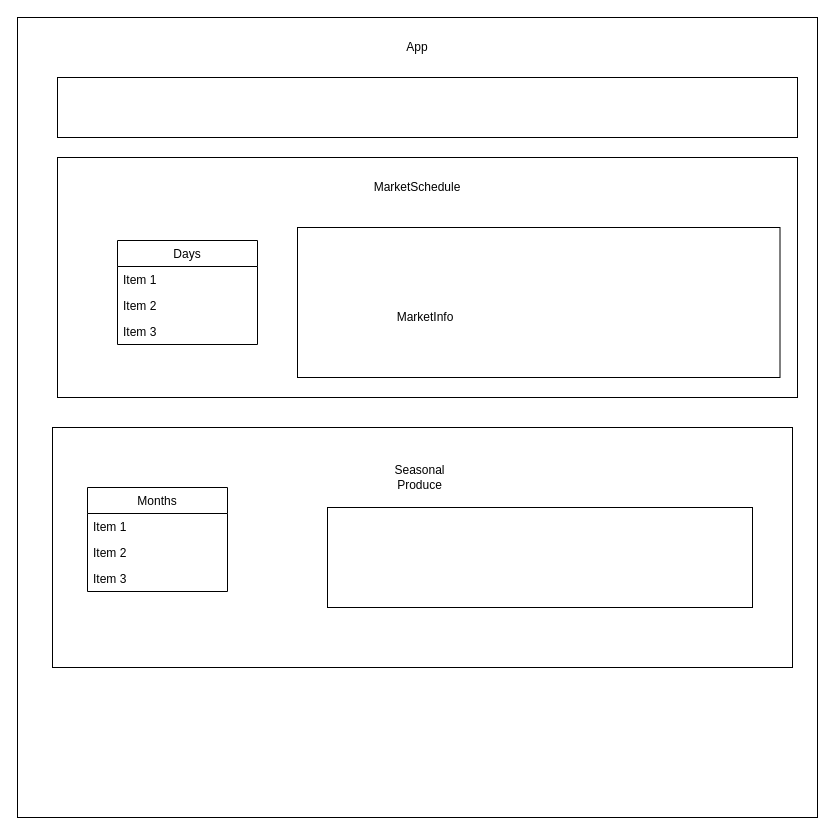
The diagram is 835 pixels wide and 835 high, and some of its shapes have lost their labels. The box of each missing label's shape, as (x1, y1, x2, y2) in pixels:
Header: (56, 76, 798, 138)
Seasonal Info: (326, 506, 752, 608)
